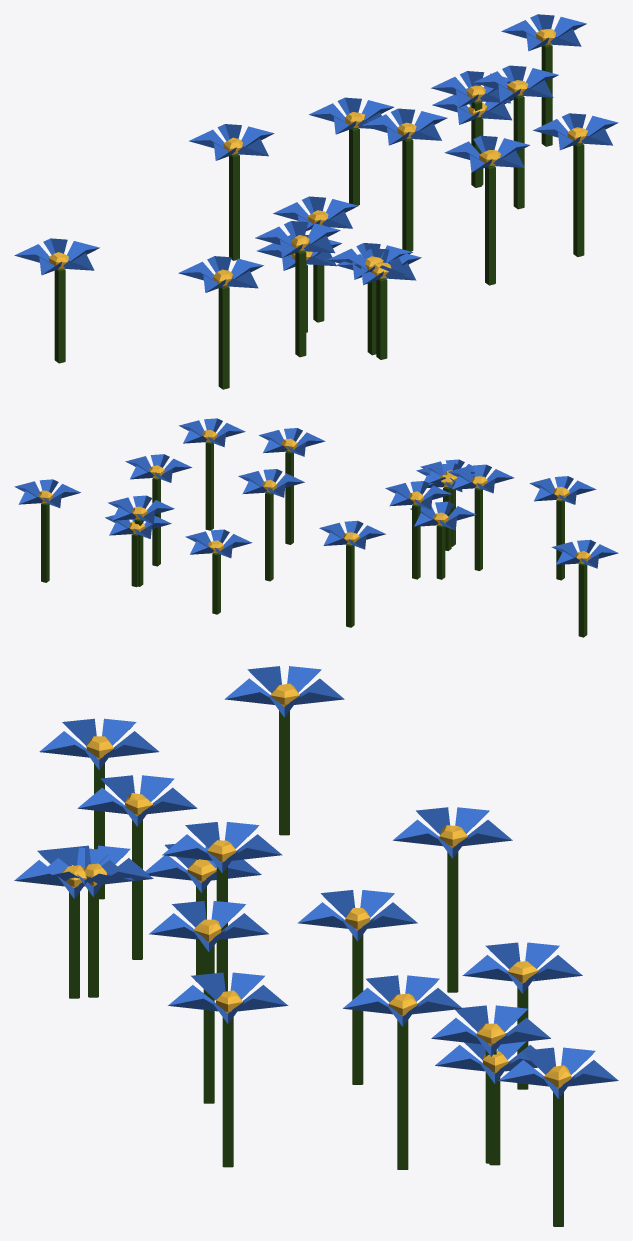
File: bed_flowers_4.obj
The picture shows the model from 3 angles, top to bottom: view 1: azimuth 30°, elevation 25°; view 2: azimuth 150°, elevation 25°; view 3: azimuth 270°, elevation 25°; orthographic projection. The views are drawn at different scales.
Visible parts, largest first — view 1: bed_flowers_4; view 2: bed_flowers_4; view 3: bed_flowers_4.
Boxes of the visible parts, x1=… form: bed_flowers_4: x1=14, y1=14, x2=618, y2=389; bed_flowers_4: x1=14, y1=418, x2=618, y2=637; bed_flowers_4: x1=14, y1=666, x2=618, y2=1226.
Bounding box in the file's own units: 3.77 × 0.7433 × 2.19.
